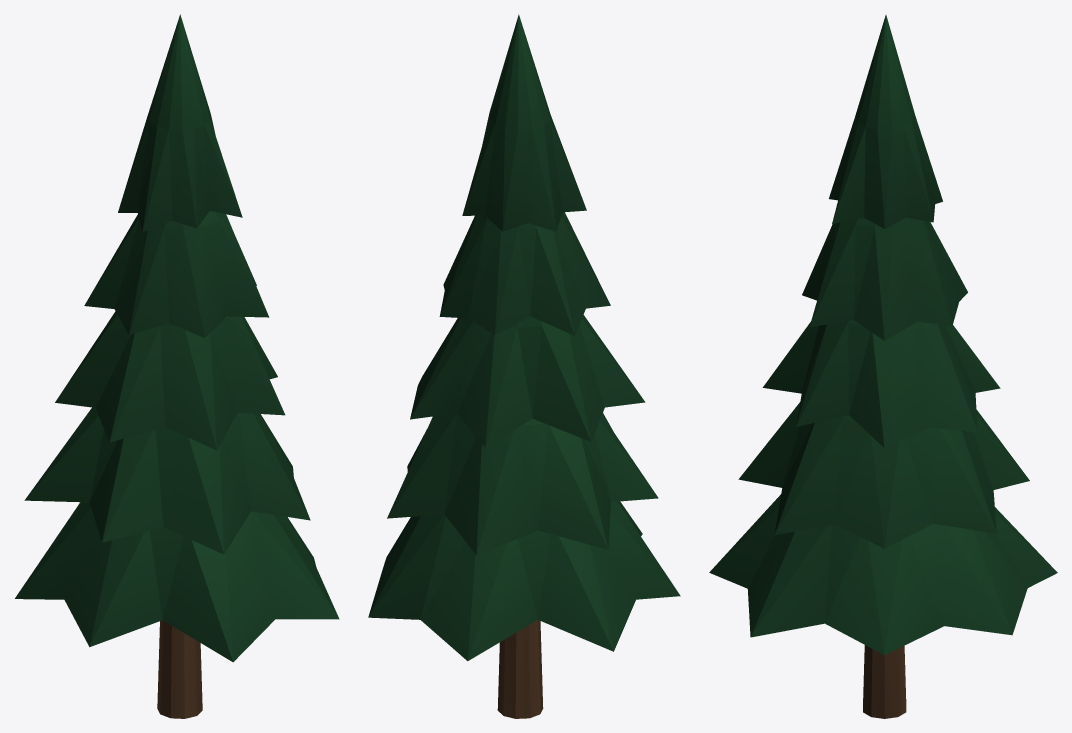
File: tree_pine_c.glb
3 views of the same model, side by side, from view 1: azimuth 30°, elevation 25°; view 2: azimuth 150°, elevation 25°; view 3: azimuth 270°, elevation 25° (orthographic).
Visible parts, largest first — view 1: layer, layer.001, layer.002, layer.003, layer.004, trunk; view 2: layer, layer.001, layer.002, layer.003, layer.004, trunk; view 3: layer, layer.001, layer.002, layer.003, layer.004, trunk.
Part boxes in pixels (box(x1,y1,x2,y2)): layer: box(15, 502, 339, 662); layer.001: box(24, 407, 310, 554); layer.002: box(55, 311, 285, 450); layer.003: box(84, 211, 269, 337); layer.004: box(118, 14, 242, 232); trunk: box(157, 620, 202, 718); layer: box(368, 501, 680, 661); layer.001: box(387, 413, 658, 555); layer.002: box(410, 315, 645, 447); layer.003: box(439, 212, 610, 335); layer.004: box(462, 14, 586, 231); trunk: box(497, 620, 543, 718); layer: box(709, 494, 1057, 655); layer.001: box(738, 402, 1029, 548); layer.002: box(762, 320, 1000, 447); layer.003: box(802, 217, 967, 340); layer.004: box(829, 15, 942, 228); trunk: box(863, 645, 906, 718).
Size of the model in its own units: 2.13 by 5.38 by 2.44.
